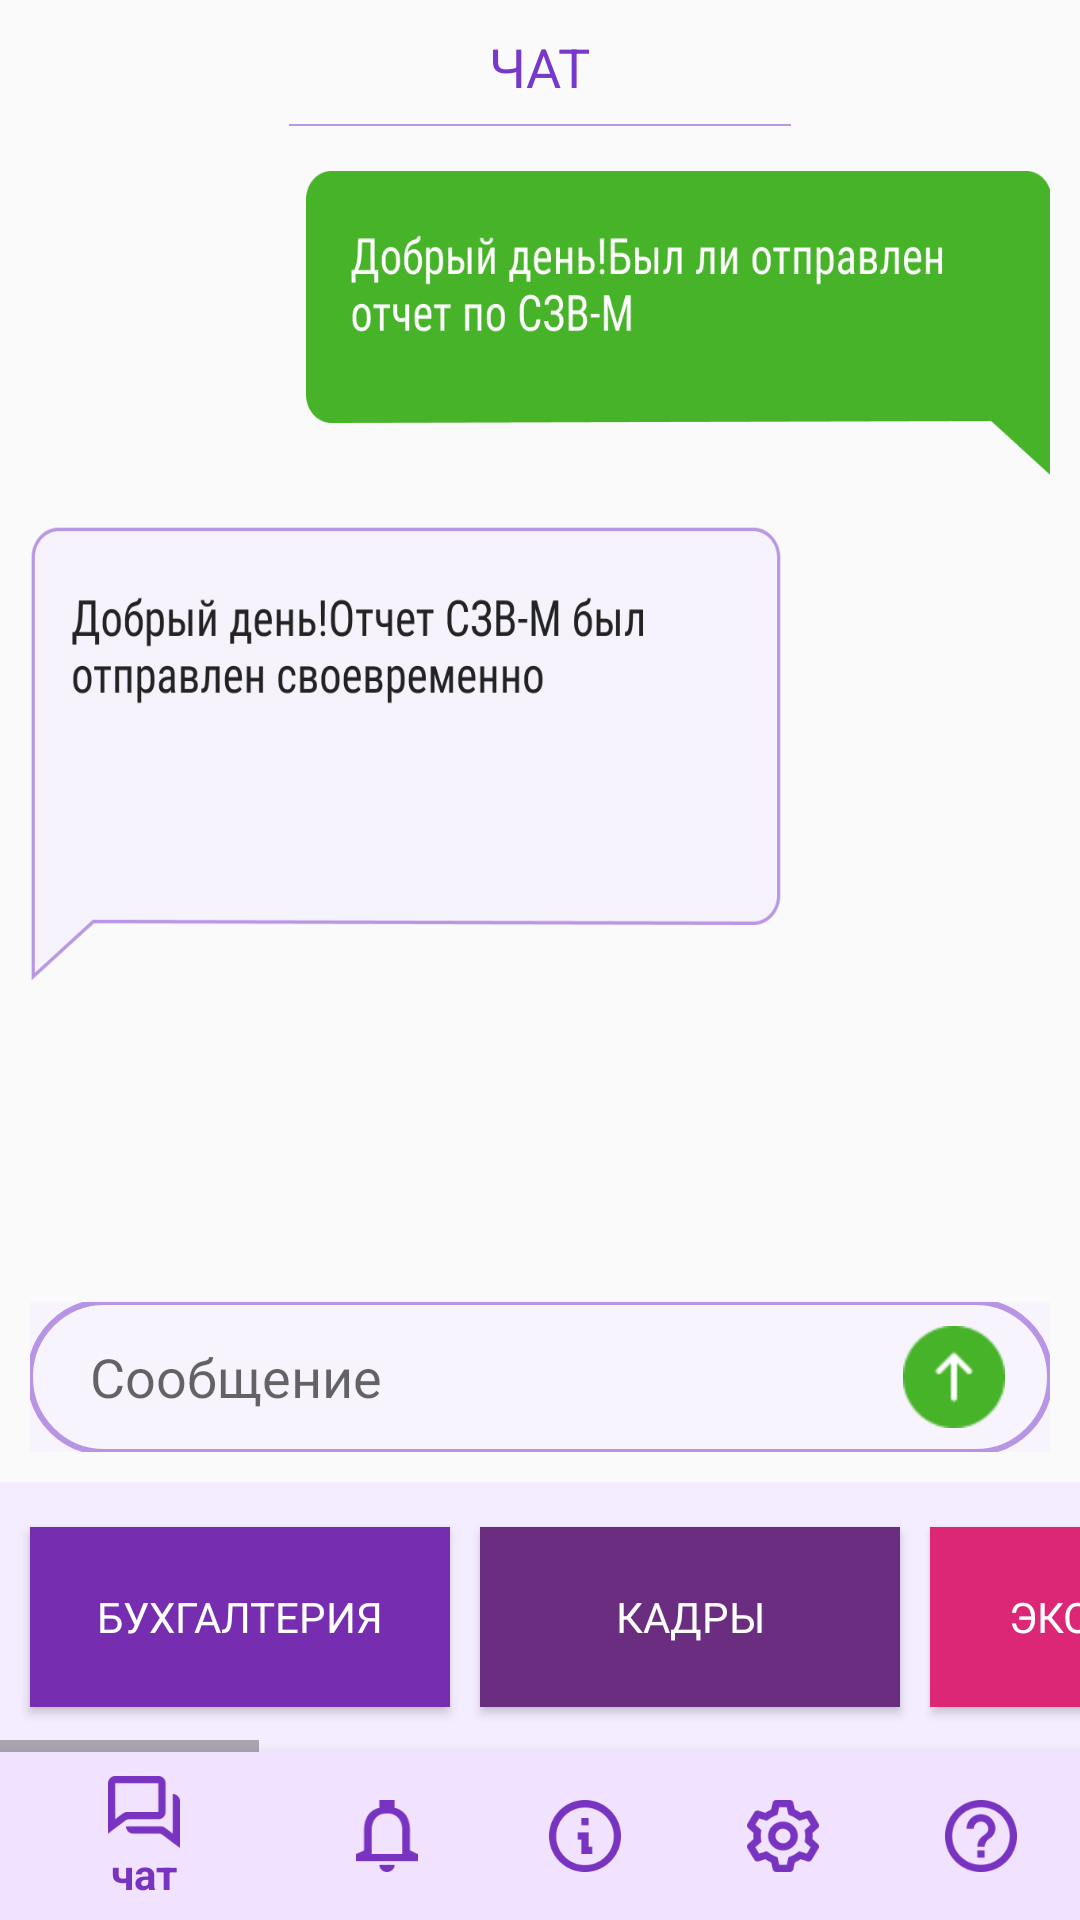

Icon bounding boxes for this 1080 x 1920 phone screenshot, format [x1, y1, x2, y2]:
message send: [903, 1326, 1005, 1428]
